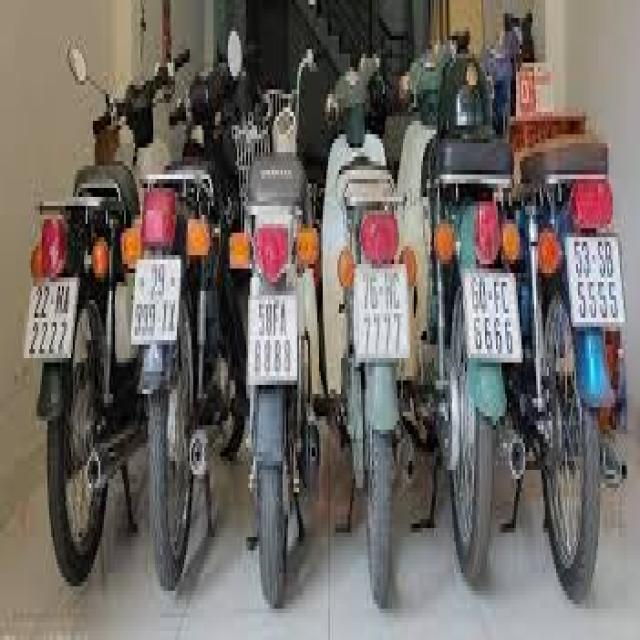bien_so: (345, 243, 430, 422), (461, 247, 536, 400), (558, 218, 625, 357)
